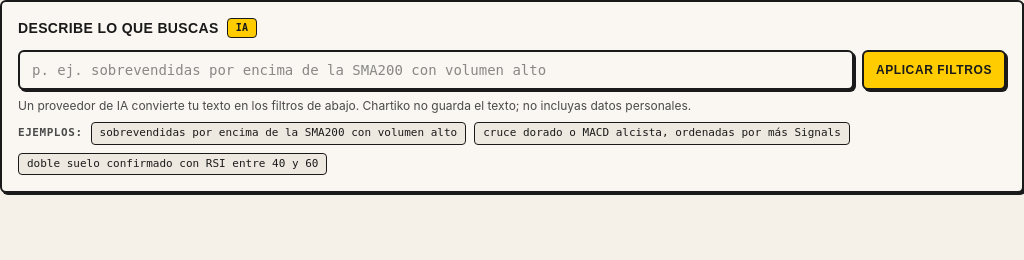
Test: ScreenerAiQuery › shows an error and changes no filters when the AI answer is invalid
Replace the text in the field named "Búsqueda en tus palabras" with "sobrevendidas" at coordinates (436, 70), box [18,50,854,90]
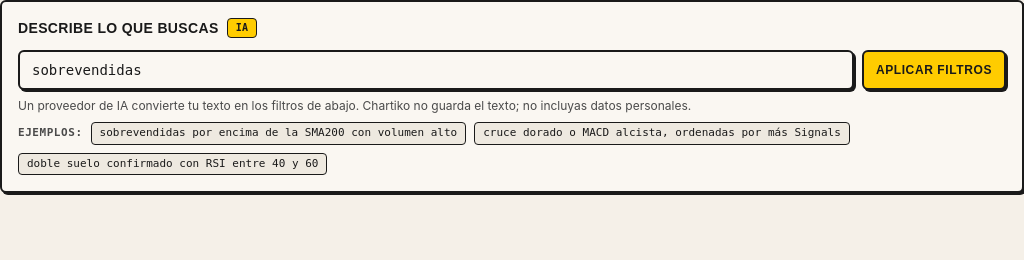
Click the button "Aplicar filtros".
click(934, 70)  # box [862,50,1006,90]
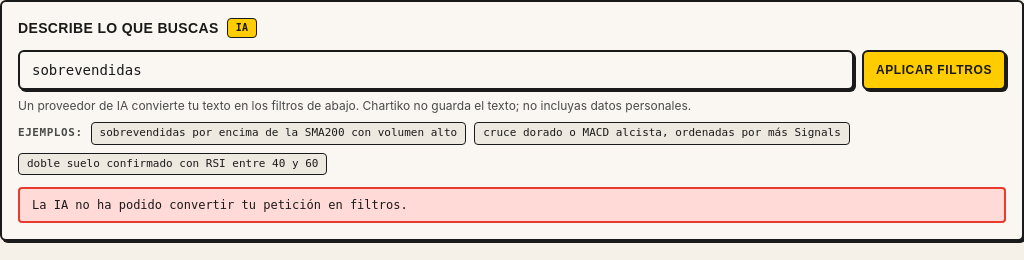
Expected: the message reads "La IA no ha podido convertir tu petición en filtros.", [32,198,408,212]
